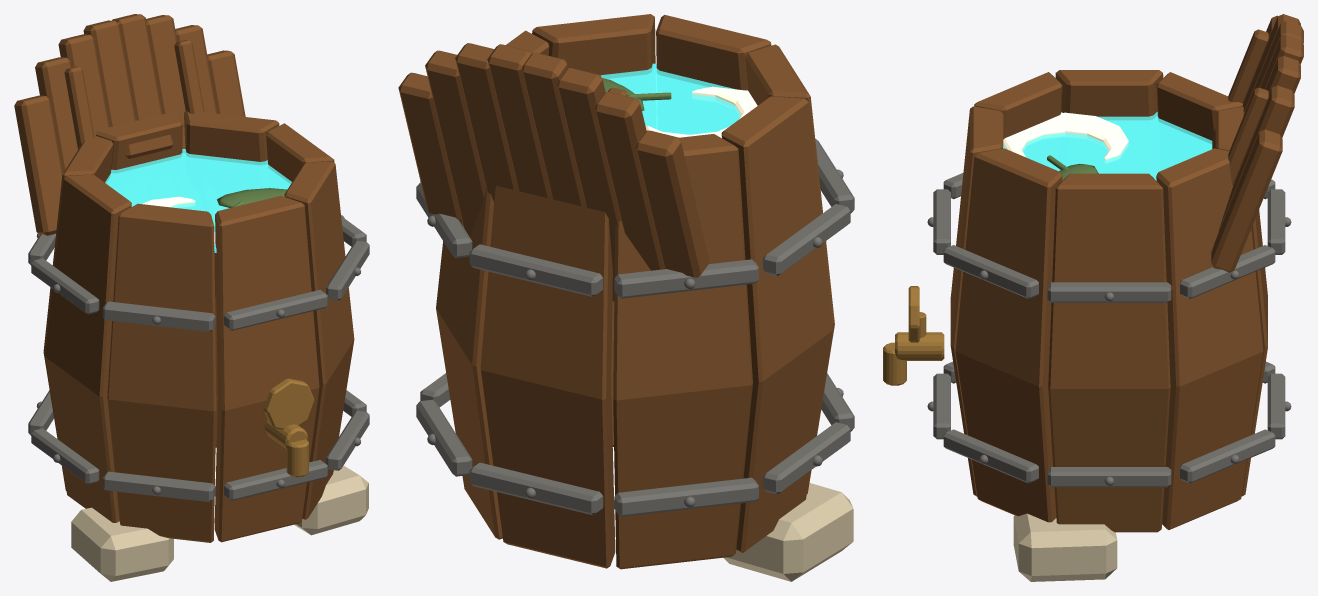
The model's file is MoonRainBarrel.glb.
3 renders of one model, left to right at view 1: azimuth 30°, elevation 25°; view 2: azimuth 150°, elevation 25°; view 3: azimuth 270°, elevation 25°, orthographic. The views are drawn at different scales.
Visible parts, largest first — view 1: MoonRainBarrel_Staves, MoonRainBarrel_Lid, MoonRainBarrel_Bands, MoonRainBarrel_LimestoneFeet, MoonRainBarrel_Water, MoonRainBarrel_Tap, MoonRainBarrel_Leaf; view 2: MoonRainBarrel_Staves, MoonRainBarrel_Lid, MoonRainBarrel_Bands, MoonRainBarrel_LimestoneFeet, MoonRainBarrel_Water, MoonRainBarrel_MoonStone; view 3: MoonRainBarrel_Staves, MoonRainBarrel_Bands, MoonRainBarrel_Lid, MoonRainBarrel_Water, MoonRainBarrel_LimestoneFeet, MoonRainBarrel_MoonStone, MoonRainBarrel_Tap.
Part boxes in pixels (x1=…): MoonRainBarrel_Staves: x1=43, y1=111, x2=354, y2=542; MoonRainBarrel_Lid: x1=14, y1=14, x2=245, y2=235; MoonRainBarrel_Bands: x1=28, y1=215, x2=369, y2=502; MoonRainBarrel_LimestoneFeet: x1=71, y1=465, x2=368, y2=581; MoonRainBarrel_Water: x1=105, y1=149, x2=291, y2=252; MoonRainBarrel_Tap: x1=263, y1=378, x2=314, y2=477; MoonRainBarrel_Leaf: x1=217, y1=188, x2=287, y2=207; MoonRainBarrel_Staves: x1=436, y1=14, x2=834, y2=569; MoonRainBarrel_Lid: x1=398, y1=43, x2=709, y2=302; MoonRainBarrel_Bands: x1=416, y1=139, x2=854, y2=516; MoonRainBarrel_LimestoneFeet: x1=723, y1=483, x2=853, y2=581; MoonRainBarrel_Water: x1=601, y1=63, x2=747, y2=134; MoonRainBarrel_MoonStone: x1=645, y1=86, x2=757, y2=137; MoonRainBarrel_Staves: x1=950, y1=70, x2=1267, y2=532; MoonRainBarrel_Bands: x1=927, y1=173, x2=1291, y2=487; MoonRainBarrel_Lid: x1=1211, y1=14, x2=1303, y2=272; MoonRainBarrel_Water: x1=1003, y1=112, x2=1212, y2=180; MoonRainBarrel_LimestoneFeet: x1=1013, y1=513, x2=1117, y2=581; MoonRainBarrel_MoonStone: x1=1003, y1=112, x2=1128, y2=162; MoonRainBarrel_Tap: x1=883, y1=286, x2=944, y2=385.
Size of the model in its own units: 0.6611 by 0.9681 by 0.7654.
